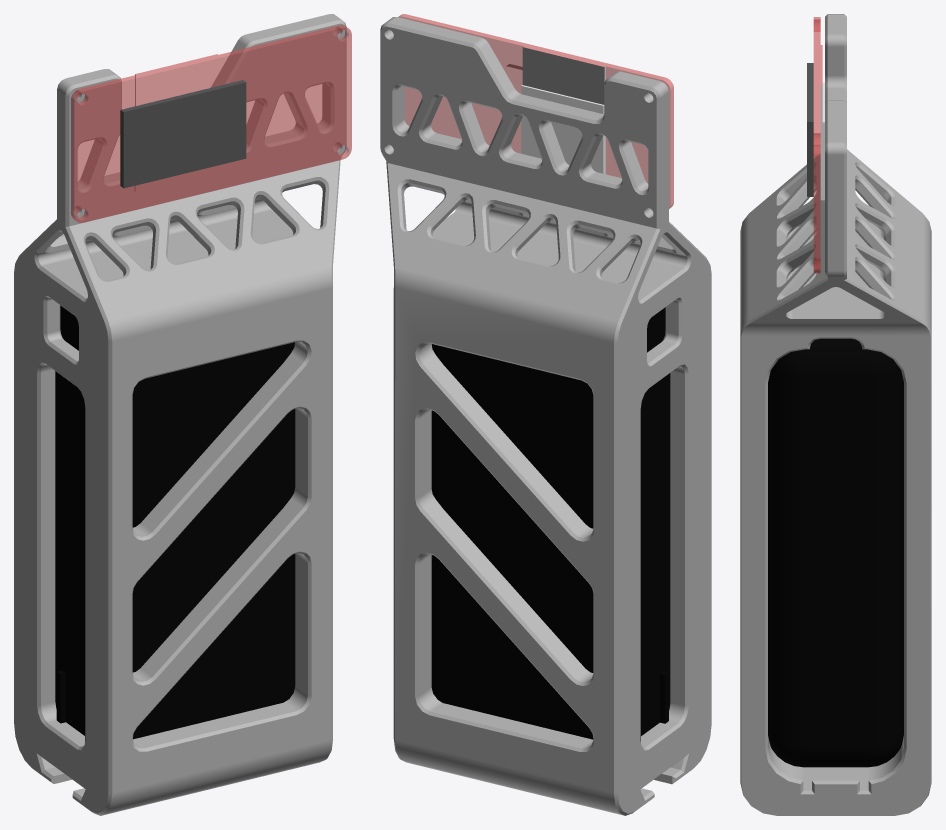
The picture shows the model from 3 angles, left to right: view 1: azimuth 30°, elevation 25°; view 2: azimuth 150°, elevation 25°; view 3: azimuth 270°, elevation 25°; orthographic projection.
Visible parts, largest first — view 1: Case-1, INIU Battery-1, UWB ESP-1; view 2: Case-1, INIU Battery-1, UWB ESP-1; view 3: Case-1, INIU Battery-1, UWB ESP-1.
Part boxes in pixels (bbox=[...]): Case-1: bbox=[14, 14, 346, 815]; INIU Battery-1: bbox=[55, 305, 295, 740]; UWB ESP-1: bbox=[71, 25, 351, 222]; Case-1: bbox=[380, 17, 711, 815]; INIU Battery-1: bbox=[431, 307, 670, 741]; UWB ESP-1: bbox=[398, 14, 673, 208]; Case-1: bbox=[740, 14, 931, 815]; INIU Battery-1: bbox=[768, 338, 903, 767]; UWB ESP-1: bbox=[807, 17, 824, 273].
Size of the model in its own units: 0.0734 by 0.1767 by 0.0439.
Materials: 5 (5 with a texture image).
